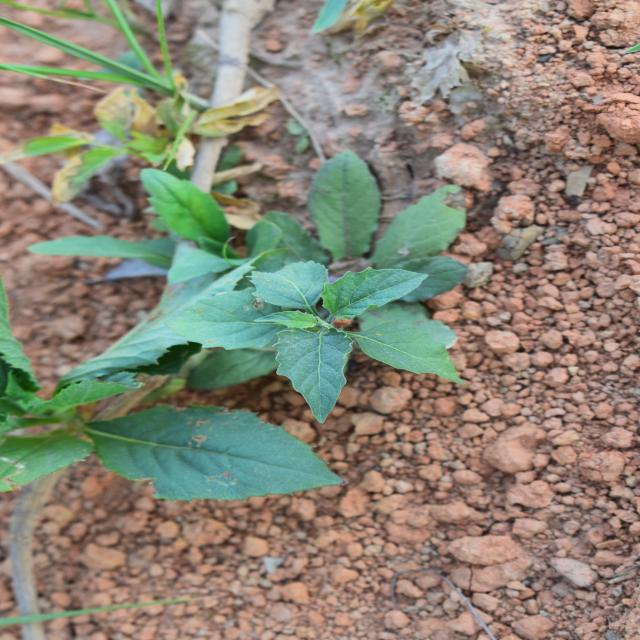Black_nightshade: (219, 201, 395, 450)
